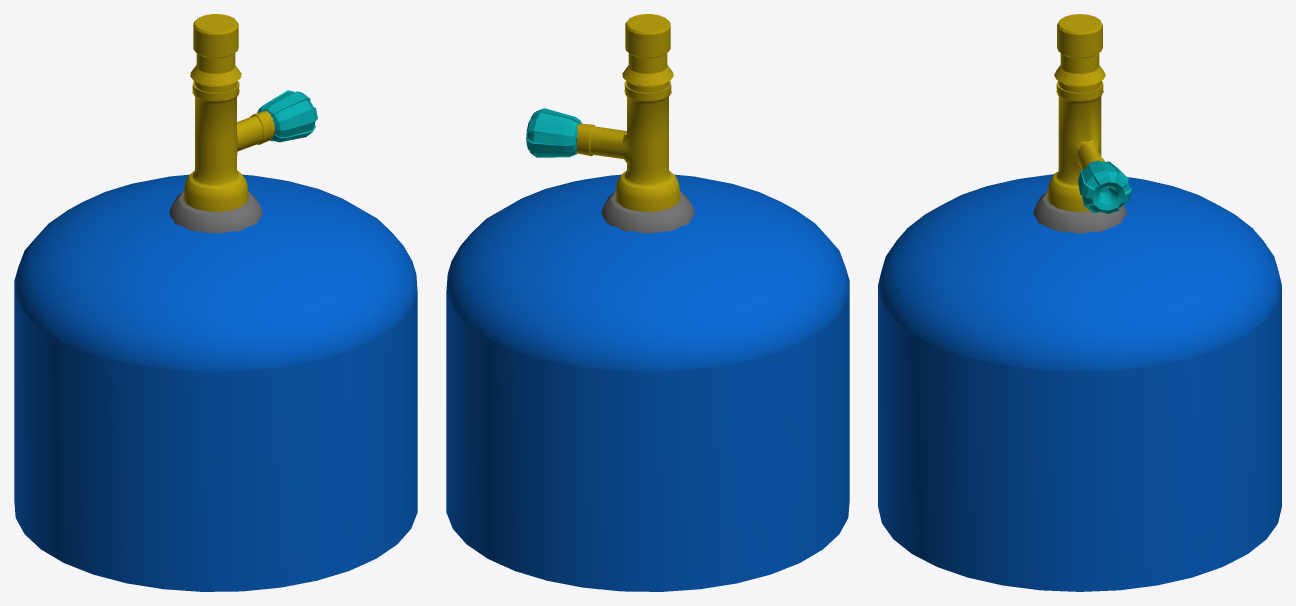
The model's file is Gaskatuschenbrenner.fbx.
3 views of the same model, side by side, from view 1: azimuth 30°, elevation 25°; view 2: azimuth 150°, elevation 25°; view 3: azimuth 270°, elevation 25° (orthographic).
Visible parts, largest first — view 1: Katusche_LOD0, Gasregler_LOD0; view 2: Katusche_LOD0, Gasregler_LOD0; view 3: Katusche_LOD0, Gasregler_LOD0.
Part boxes in pixels (x1=…): Katusche_LOD0: x1=14, y1=14, x2=417, y2=591; Gasregler_LOD0: x1=257, y1=90, x2=317, y2=142; Katusche_LOD0: x1=446, y1=14, x2=849, y2=591; Gasregler_LOD0: x1=526, y1=108, x2=582, y2=157; Katusche_LOD0: x1=878, y1=14, x2=1281, y2=591; Gasregler_LOD0: x1=1077, y1=160, x2=1132, y2=214.
Size of what is drawn, in the model's own units: 10 by 13.21 by 10.
